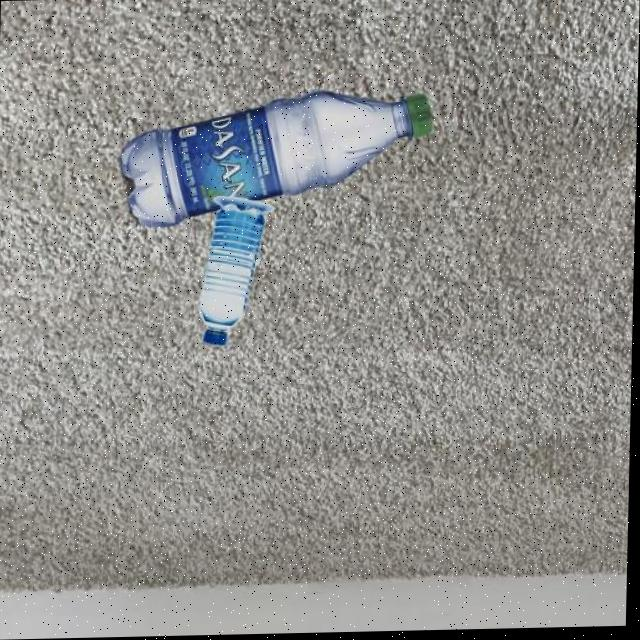bottle: (119, 90, 436, 231), (198, 198, 276, 349)
